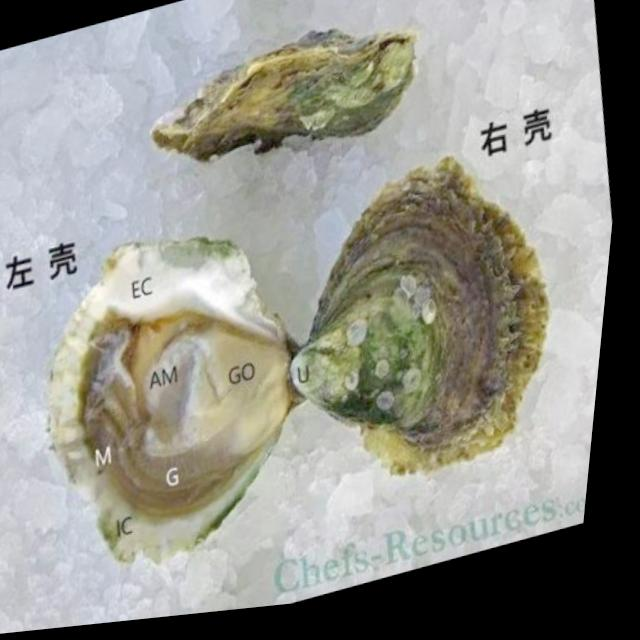Oyster-Closed: (134, 0, 438, 199)
Oyster-Indeterminate: (244, 122, 591, 509)
Oyster-Open: (5, 189, 353, 592)
